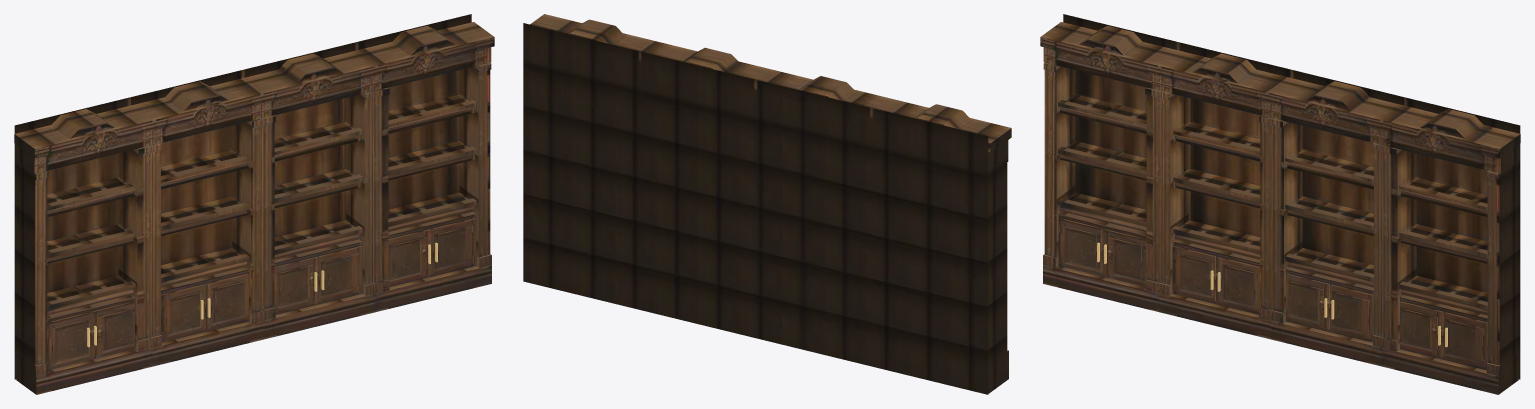
File: cases-phone.glb
3 renders of one model, left to right at view 1: azimuth 30°, elevation 25°; view 2: azimuth 150°, elevation 25°; view 3: azimuth 330°, elevation 25°, orthographic.
Parts seen in each view (by area): view 1: case_0, case_3, case_1, case_2; view 2: case_0, case_2, case_1, case_3; view 3: case_3, case_0, case_2, case_1.
Part boxes in pixels (box(x1,y1,x2,y2)): case_0: box(14, 97, 153, 394); case_3: box(355, 14, 494, 311); case_1: box(128, 69, 266, 366); case_2: box(244, 42, 380, 339); case_0: box(870, 100, 1011, 394); case_2: box(639, 42, 775, 338); case_1: box(754, 70, 895, 365); case_3: box(523, 14, 659, 309); case_3: box(1383, 97, 1520, 394); case_0: box(1040, 14, 1179, 311); case_2: box(1267, 70, 1406, 366); case_1: box(1157, 42, 1292, 339).
Size of the model in its own units: 7.79 by 4.12 by 0.6397.
Materials: 1 (1 with a texture image).
